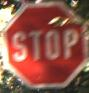Stop sign: (0, 0, 88, 92)
